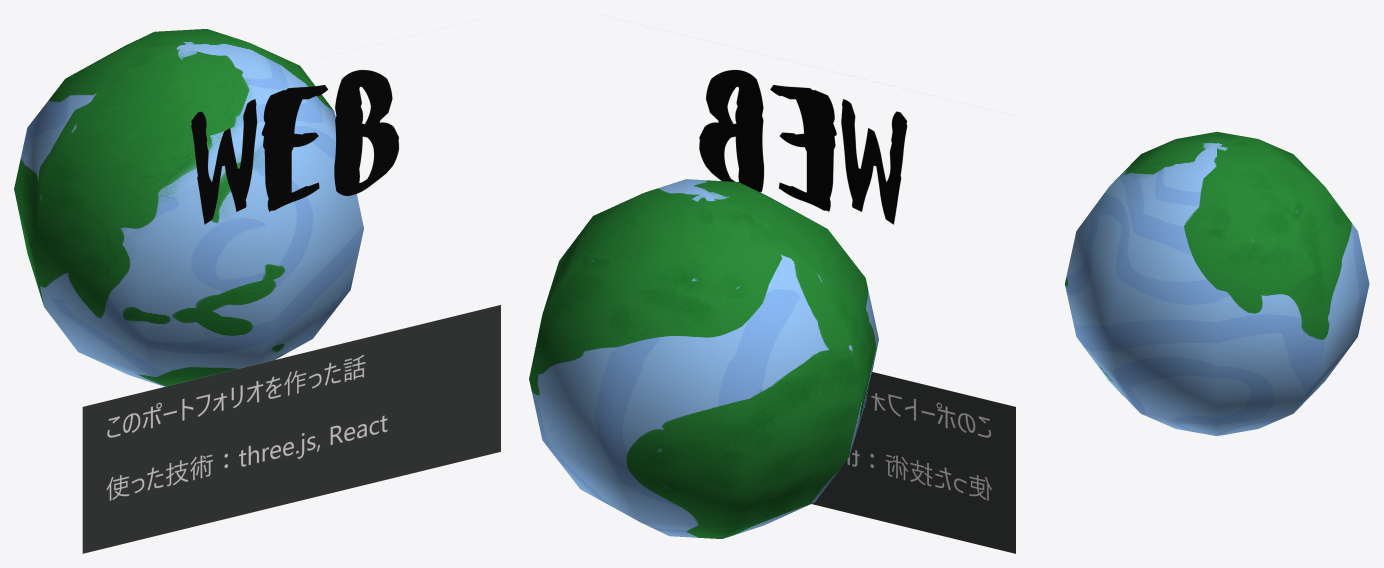
The model's file is webplanet.glb.
3 views of the same model, side by side, from view 1: azimuth 30°, elevation 25°; view 2: azimuth 150°, elevation 25°; view 3: azimuth 270°, elevation 25° (orthographic). The views are drawn at different scales.
Parts seen in each view (by area): view 1: WEBSphere, WEBPlane; view 2: WEBSphere, WEBPlane; view 3: WEBSphere.
Part boxes in pixels (x1,y1,x2,y2): WEBSphere: [14, 29, 363, 386]; WEBPlane: [82, 70, 500, 553]; WEBSphere: [529, 179, 878, 538]; WEBPlane: [699, 70, 1015, 553]; WEBSphere: [1065, 131, 1369, 436].
Size of the model in its own units: 4 by 4 by 3.2.
2 materials, 2 textured.
